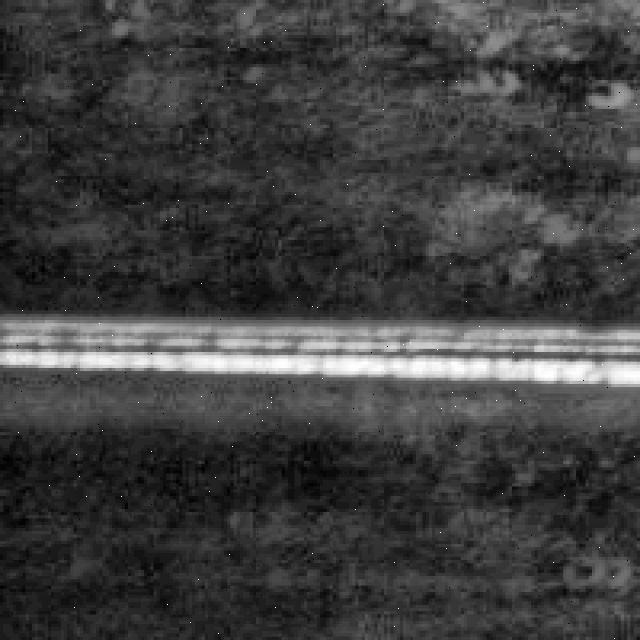Inclusion: (0, 284, 634, 394)
